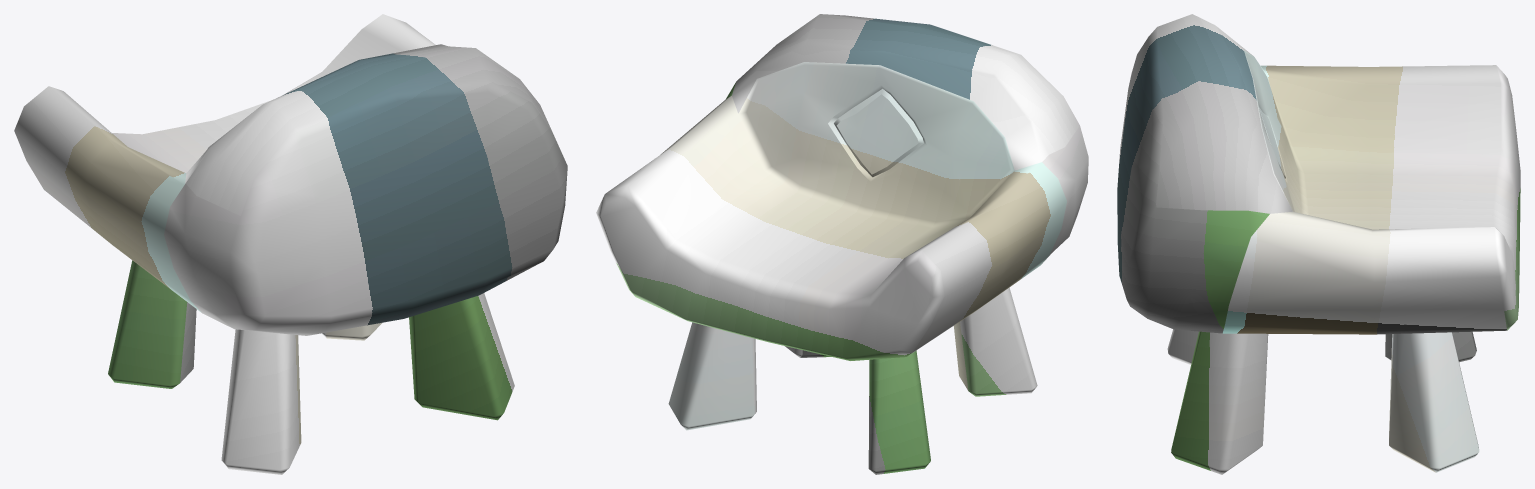
File: P_StoneChair.glb
The picture shows the model from 3 angles, left to right: view 1: azimuth 30°, elevation 25°; view 2: azimuth 150°, elevation 25°; view 3: azimuth 270°, elevation 25°; orthographic projection. The views are drawn at different scales.
Parts seen in each view (by area): view 1: P_StoneChair; view 2: P_StoneChair; view 3: P_StoneChair.
Boxes of the visible parts, <box> form: P_StoneChair: <box>14,14,567,474</box>; P_StoneChair: <box>596,14,1088,474</box>; P_StoneChair: <box>1117,14,1520,474</box>.
Size of the model in its own units: 0.7421 by 0.6618 by 0.6846.
1 material, 1 textured.
